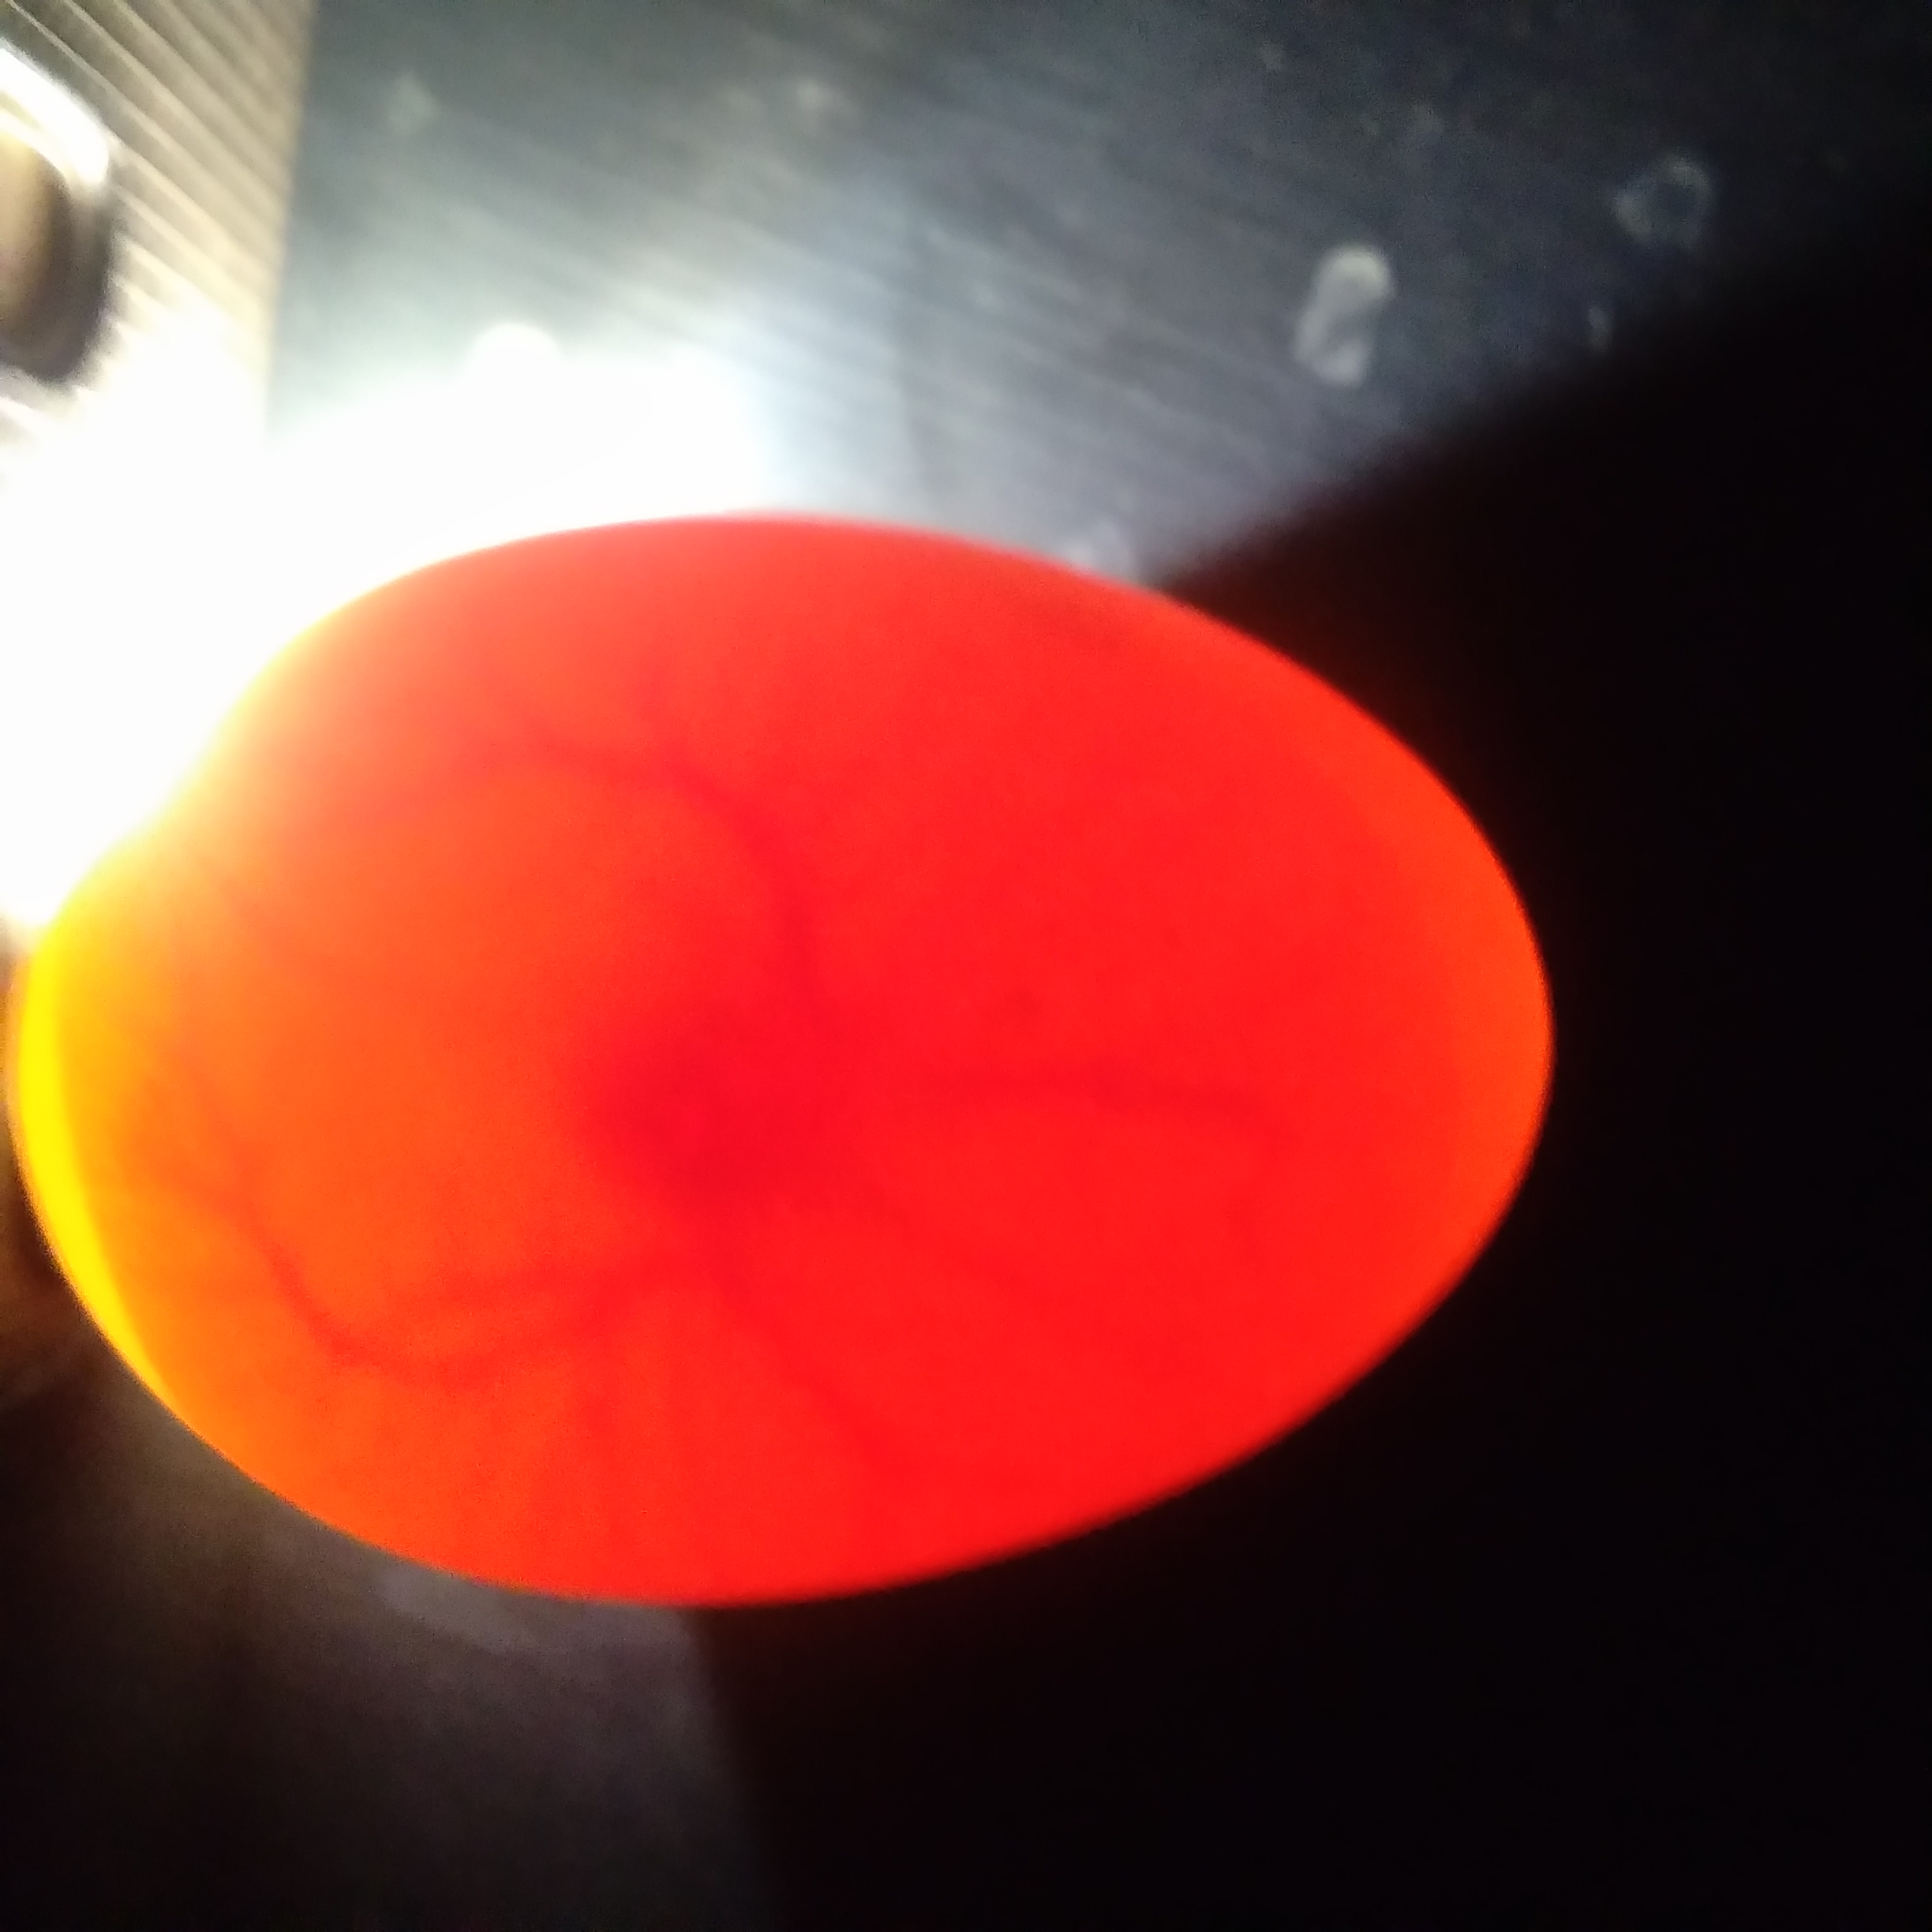bloodcell: (165, 1047, 520, 1408)
embryo: (586, 916, 888, 1235)
